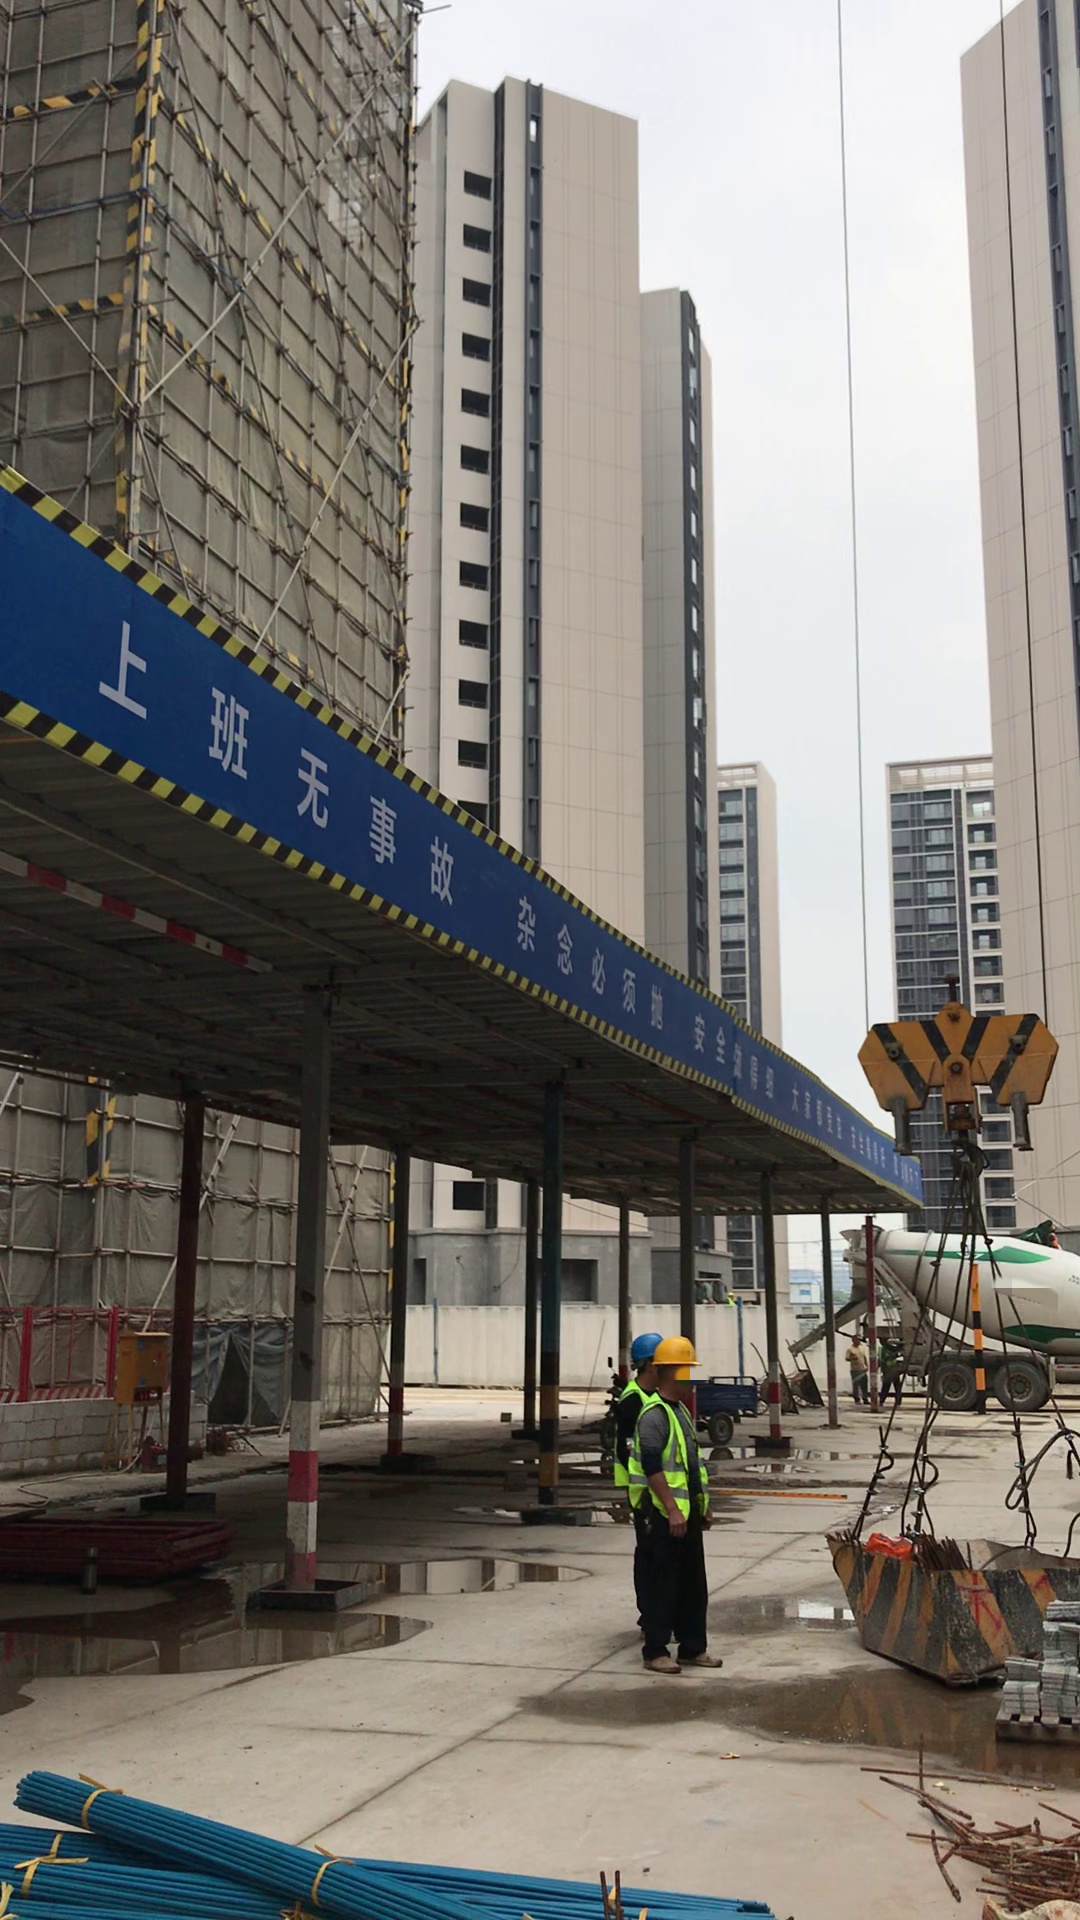ebox: (107, 1315, 191, 1433)
handcart: (757, 1344, 831, 1406)
helmet: (645, 1329, 707, 1381), (617, 1322, 660, 1369)
hook: (843, 979, 1070, 1155)
person: (620, 1333, 720, 1675), (607, 1334, 663, 1523)
slogan: (100, 601, 911, 1195)
vest: (632, 1402, 710, 1505)
